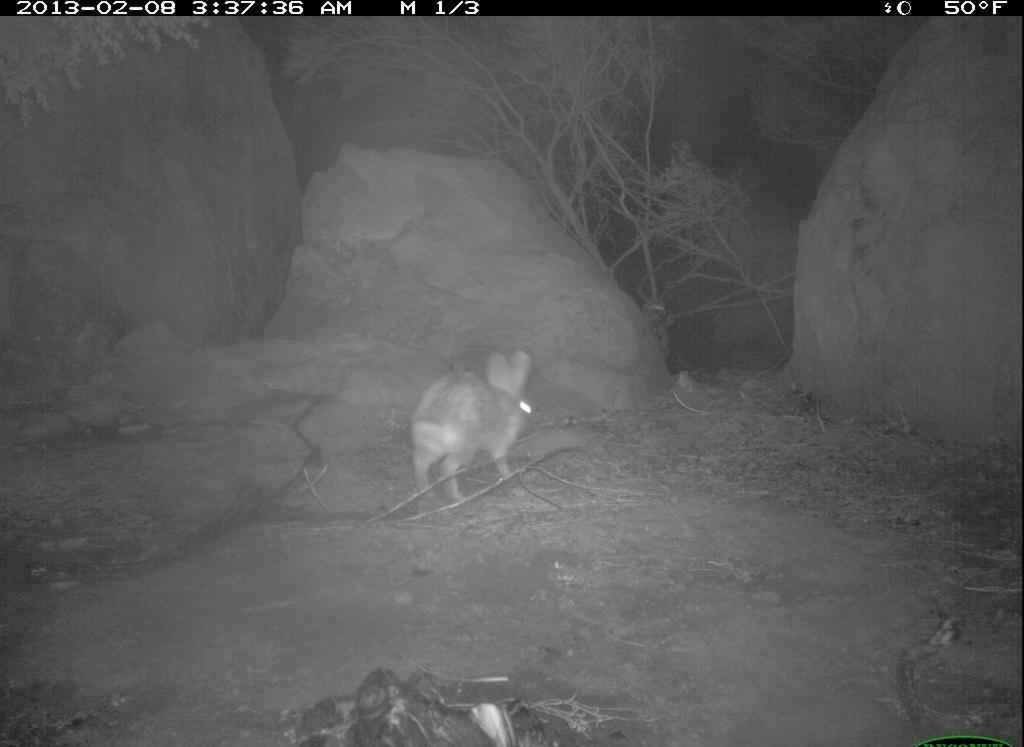rabbit: (396, 342, 546, 507)
